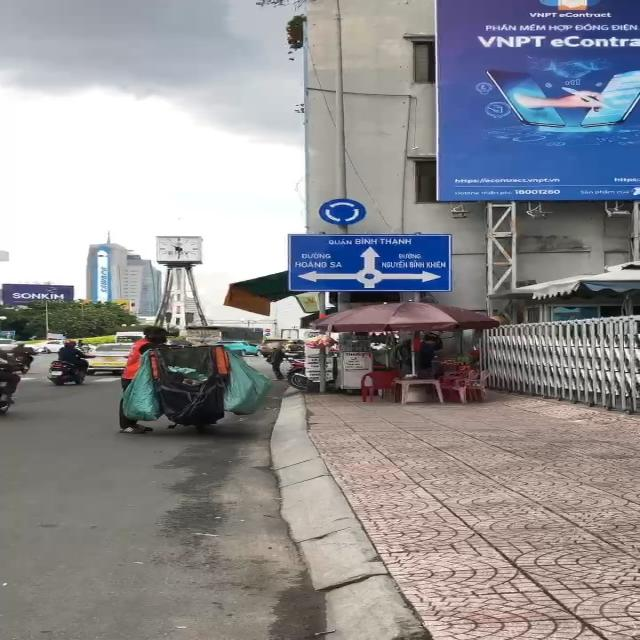Bien bao noi giao nhau chay theo vong xuyen: (316, 197, 374, 227)
